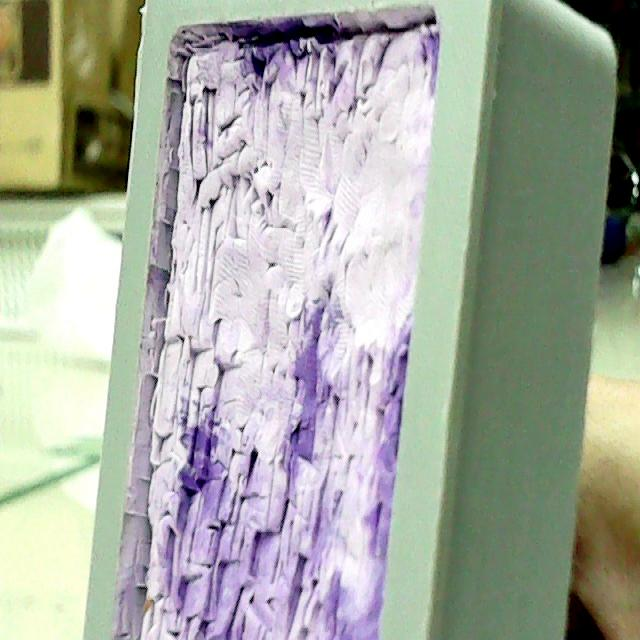block: (78, 1, 623, 640)
